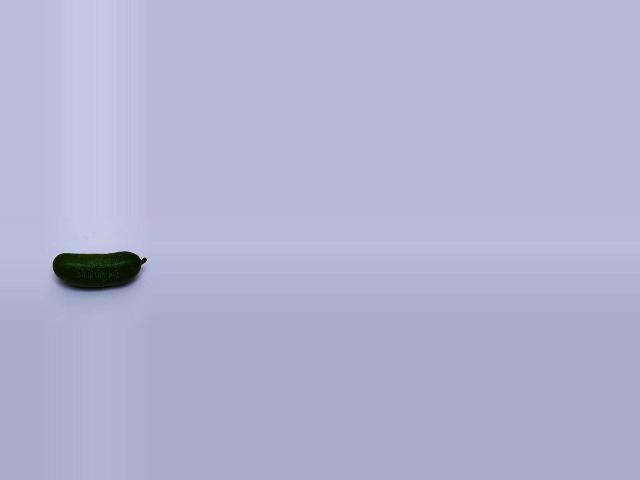cucumber: (52, 252, 146, 288)
